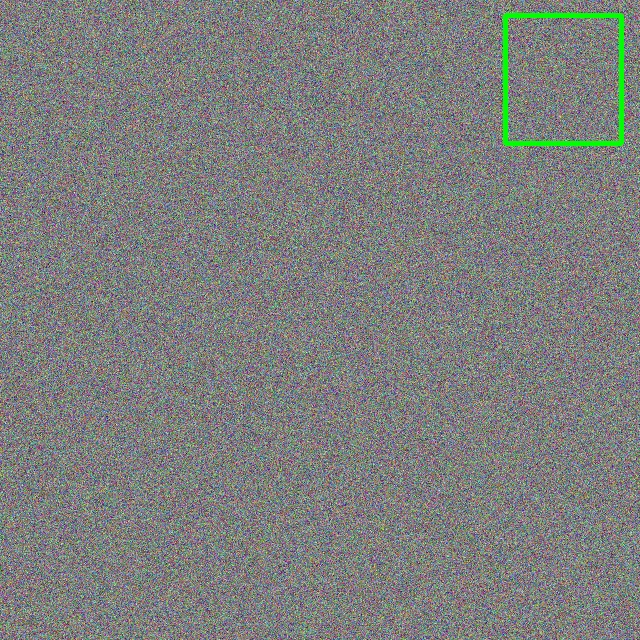base: (505, 15, 621, 143)
